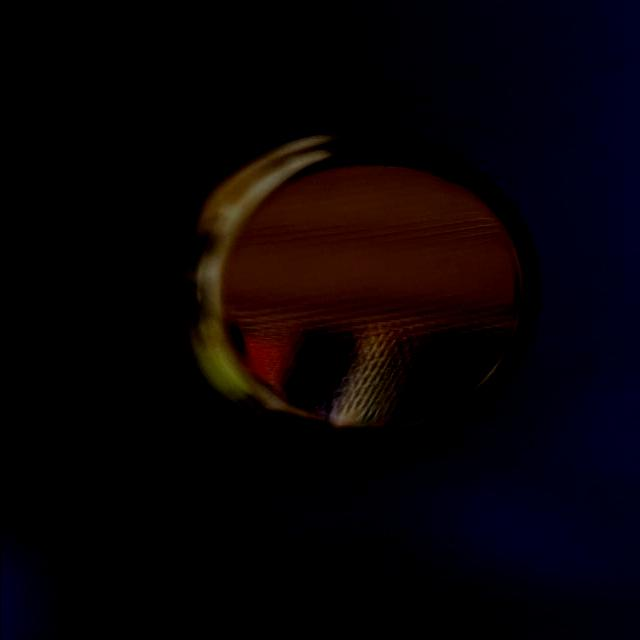COIN: (158, 124, 536, 455)
